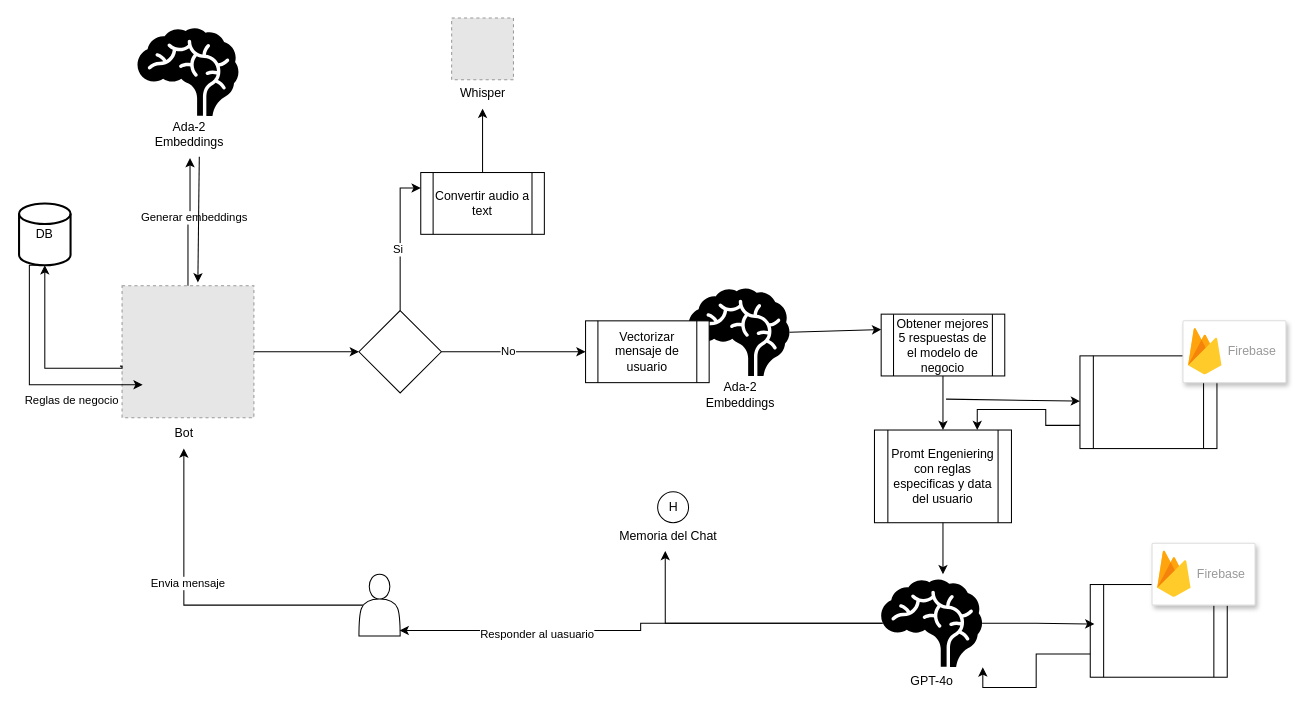
Some shapes in this 1310 by 714 pixel diagram are drawn without their labels. Grey dashed boxes stand in for pictures. The shapes that lost their labels are listed below. From the top down, each one's centre as x and y in pixels, then its label:
the point at 399,351: audio?
the point at 1148,402: Obtencion de data del usuario
the point at 1158,630: Edicion de data del usuario si es el caso
